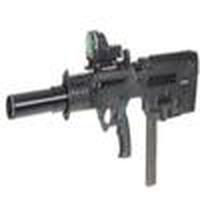gun: (2, 28, 197, 144)
